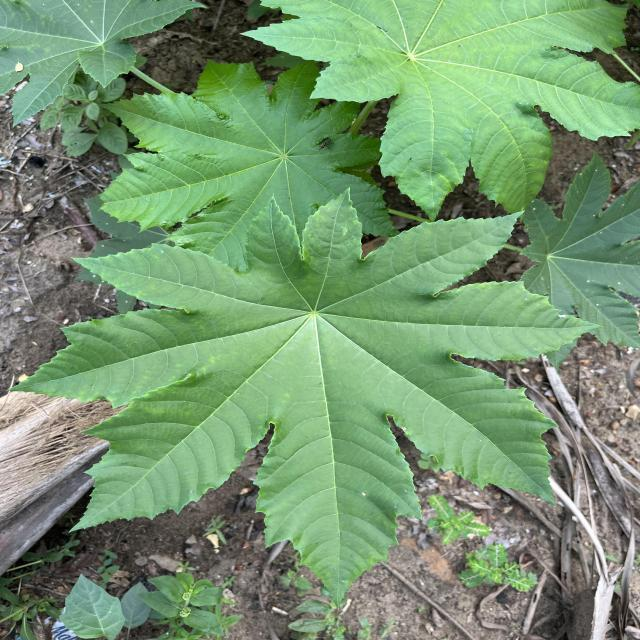Ricinus communis linn: (6, 182, 608, 614), (90, 53, 404, 287)
